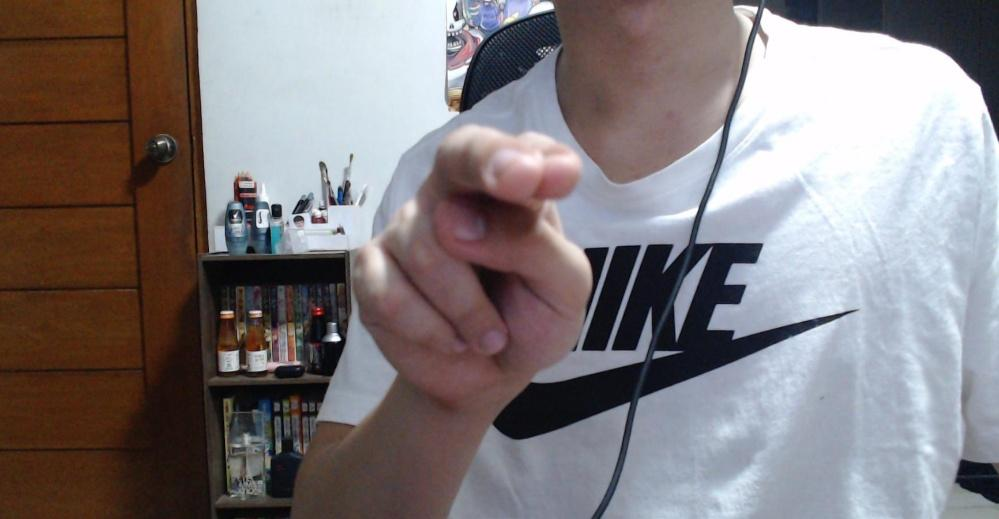n: (351, 124, 593, 408)
